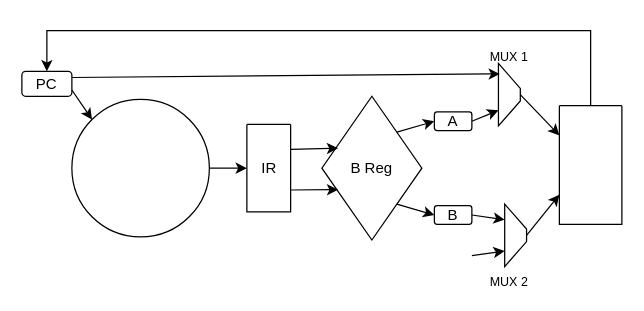
Image size: 644x311. Some labels were removed from this diagram. The shapes that lost their labels are listed below. From the top down, each one's centre as x and y in pixels, then its label:
At point (140, 167): "Memória".
At point (590, 164): "ULA".
